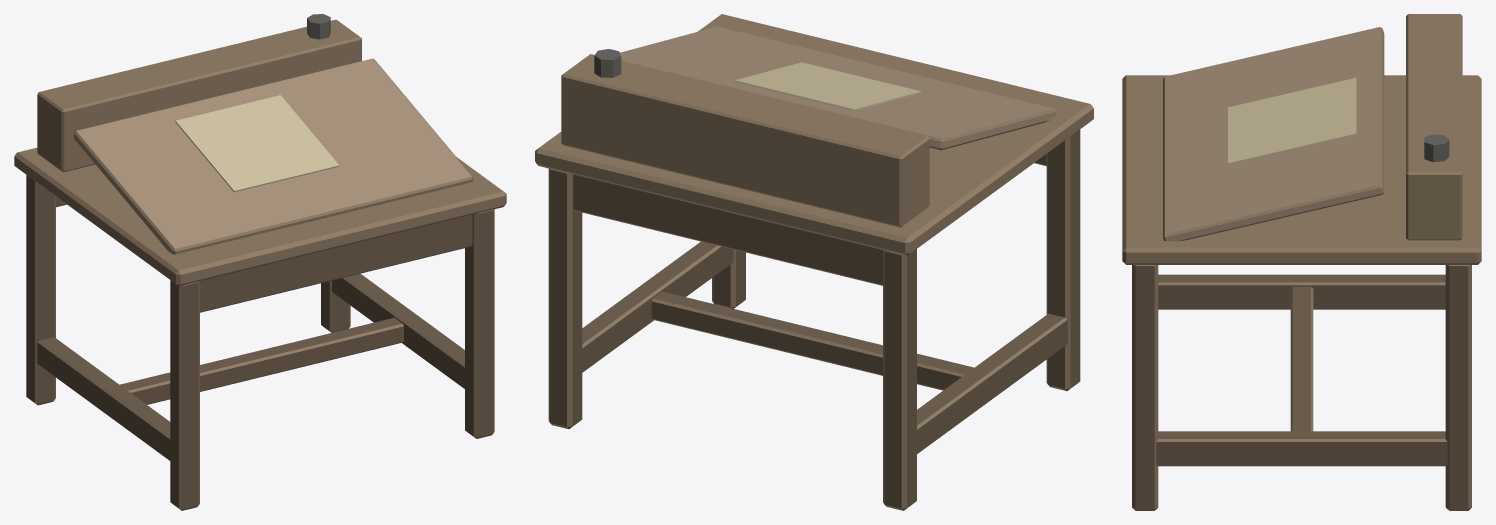
The model's file is desk_3.glb.
The picture shows the model from 3 angles, left to right: view 1: azimuth 30°, elevation 25°; view 2: azimuth 150°, elevation 25°; view 3: azimuth 270°, elevation 25°; orthographic projection. The views are drawn at different scales.
Visible parts, largest first — view 1: Desk_3; view 2: Desk_3; view 3: Desk_3.
Part boxes in pixels (x1,y1,x2,y2): Desk_3: (14,14,506,510); Desk_3: (535,14,1093,510); Desk_3: (1122,14,1481,510).
Size of the model in its own units: 1.1 by 1.03 by 0.95.
